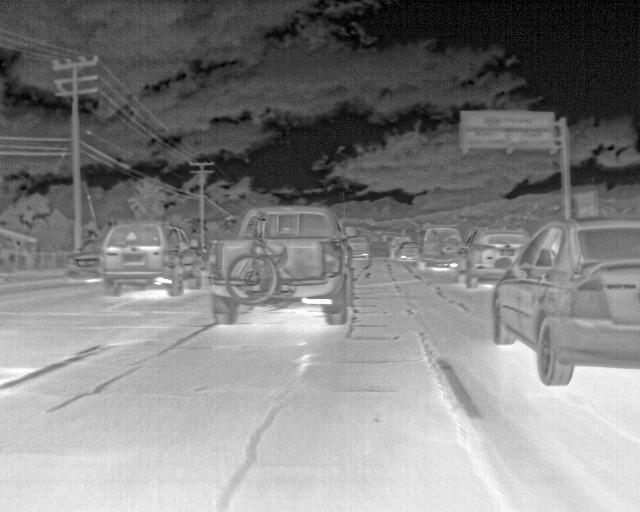bicycle: (229, 220, 282, 303)
car: (493, 216, 638, 388), (209, 205, 352, 324), (99, 221, 205, 299), (457, 226, 529, 287), (419, 223, 464, 268), (67, 236, 104, 281), (342, 234, 369, 258), (395, 241, 422, 261), (369, 240, 391, 259)
